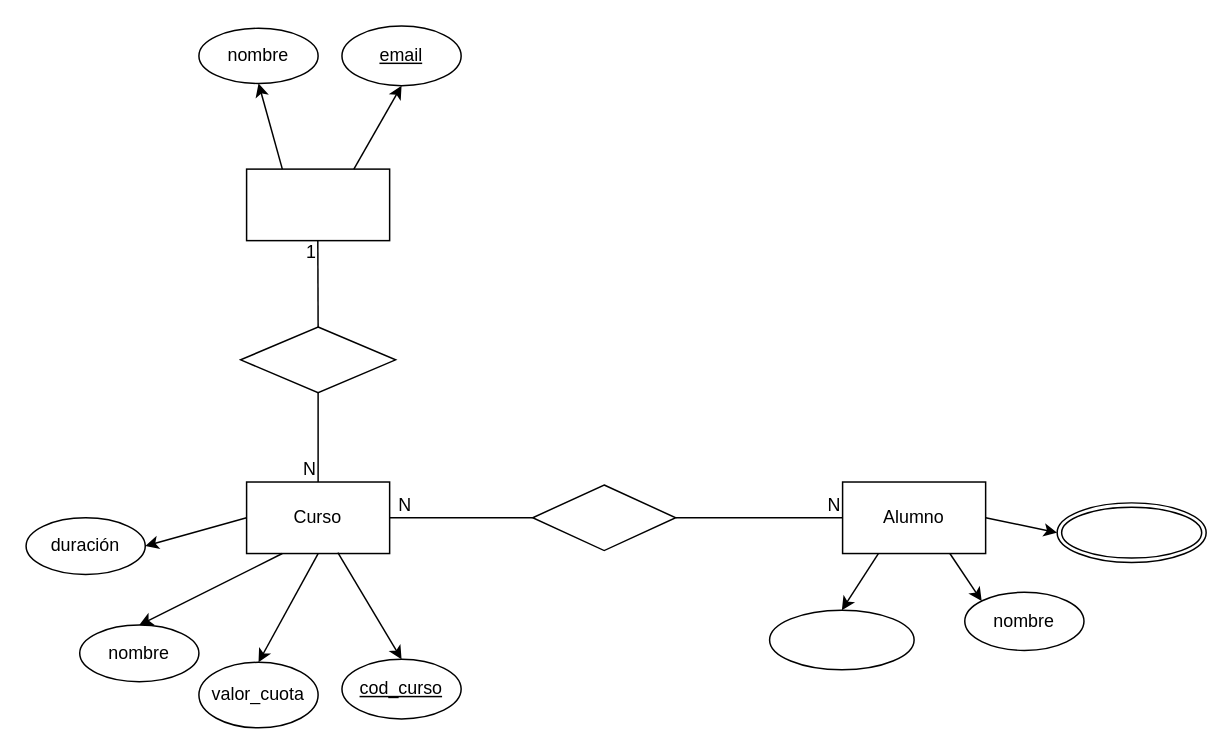
Some shapes in this 1232 by 754 pixel diagram are drawn without their labels. Here are the shapes that lost their labels. From the top down, the centre of each, then its label:
the point at 317,204: Instructor
the point at 317,359: dicta
the point at 603,517: tomado
the point at 1131,531: teléfono
the point at 841,639: cod_alumno
